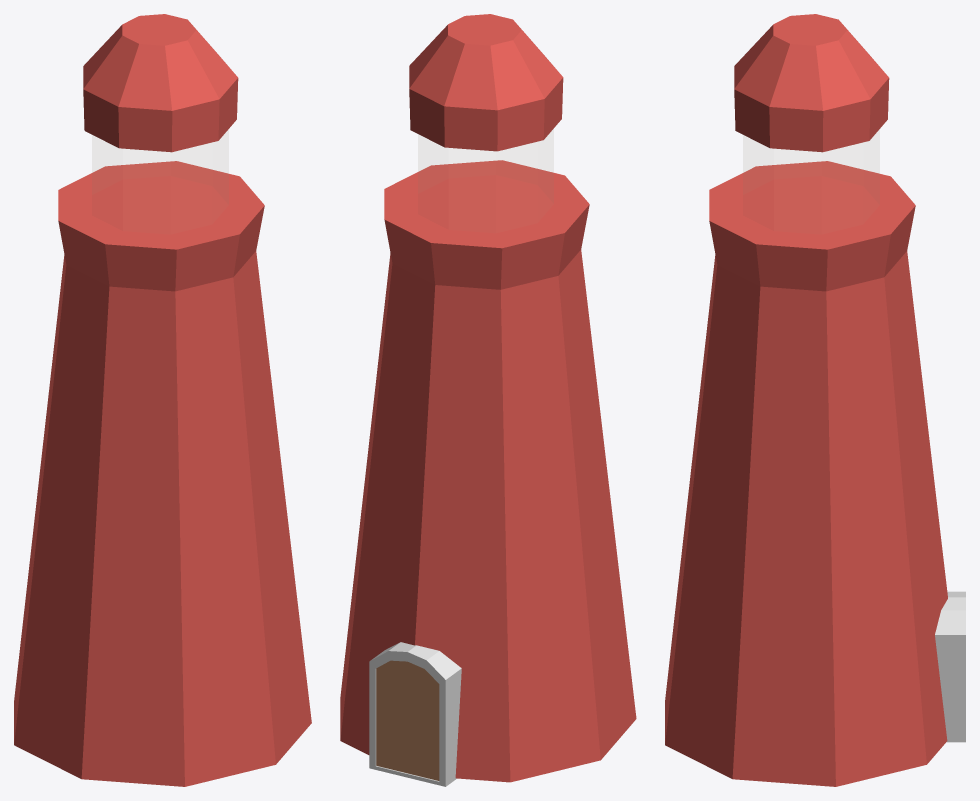
The model's file is lighthouse.fbx.
3 renders of one model, left to right at view 1: azimuth 30°, elevation 25°; view 2: azimuth 150°, elevation 25°; view 3: azimuth 270°, elevation 25°, orthographic.
Parts seen in each view (by area): view 1: Cylinder.002; view 2: Cylinder.002; view 3: Cylinder.002.
Boxes of the visible parts, box(x1,y1,x2,y2) form: Cylinder.002: box(14, 14, 311, 786); Cylinder.002: box(340, 14, 636, 786); Cylinder.002: box(665, 14, 965, 786).
Bounding box in the file's own units: 197 × 499 × 196.
